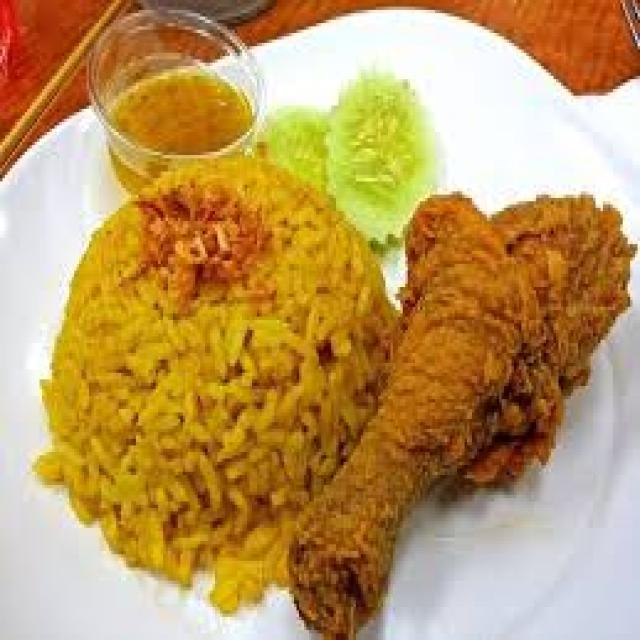carb: (46, 179, 335, 509)
chicken biryani: (0, 52, 623, 614)
meat: (359, 168, 619, 556)
vegetable: (276, 80, 436, 241)
